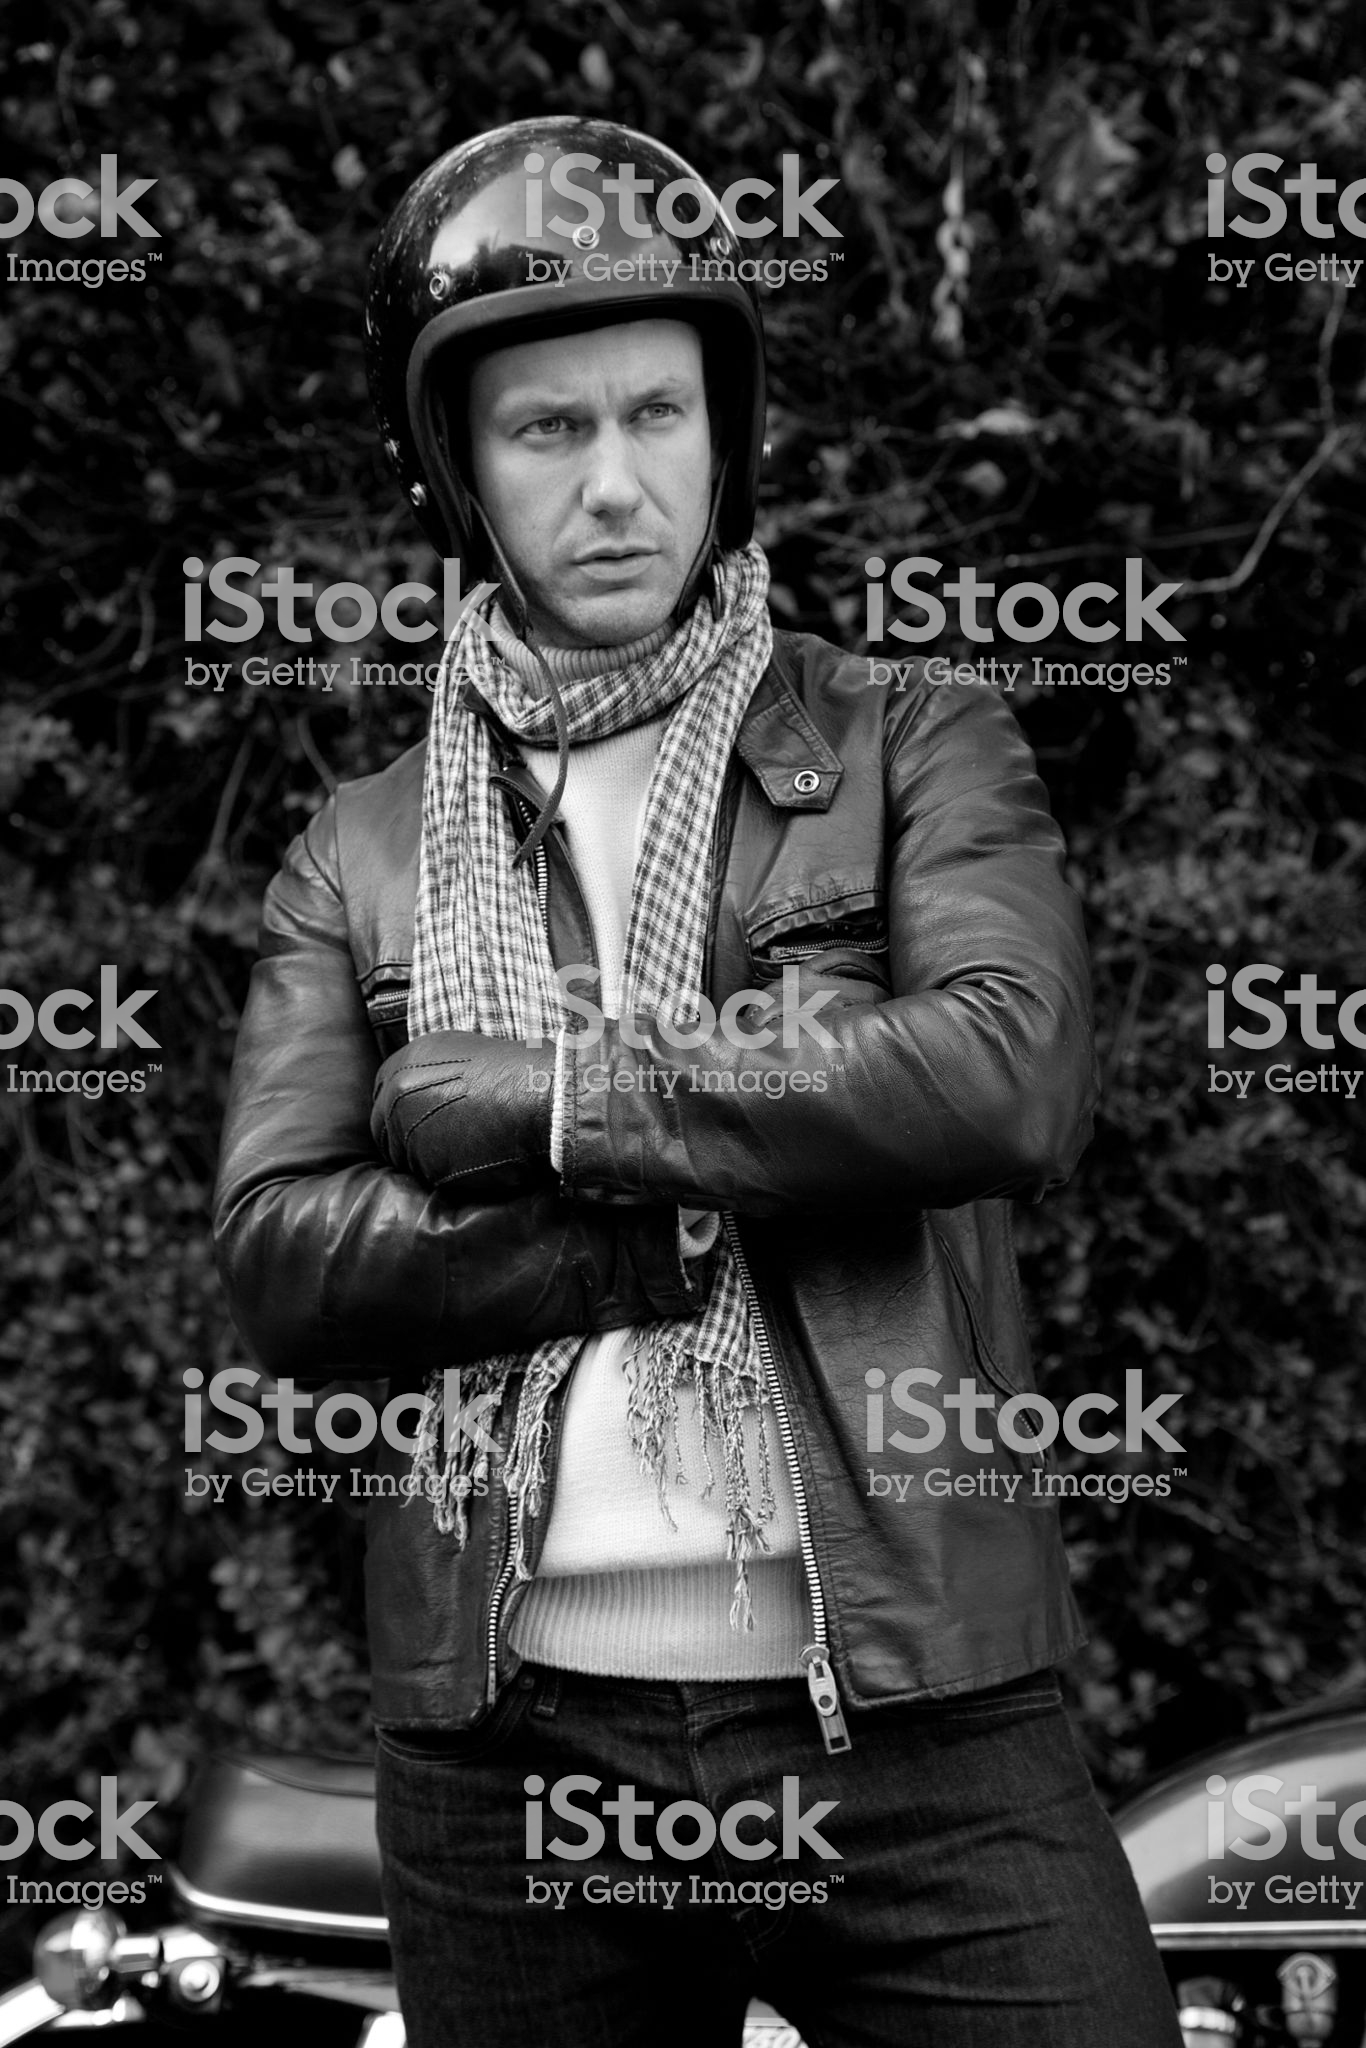helmet: (354, 101, 800, 395)
